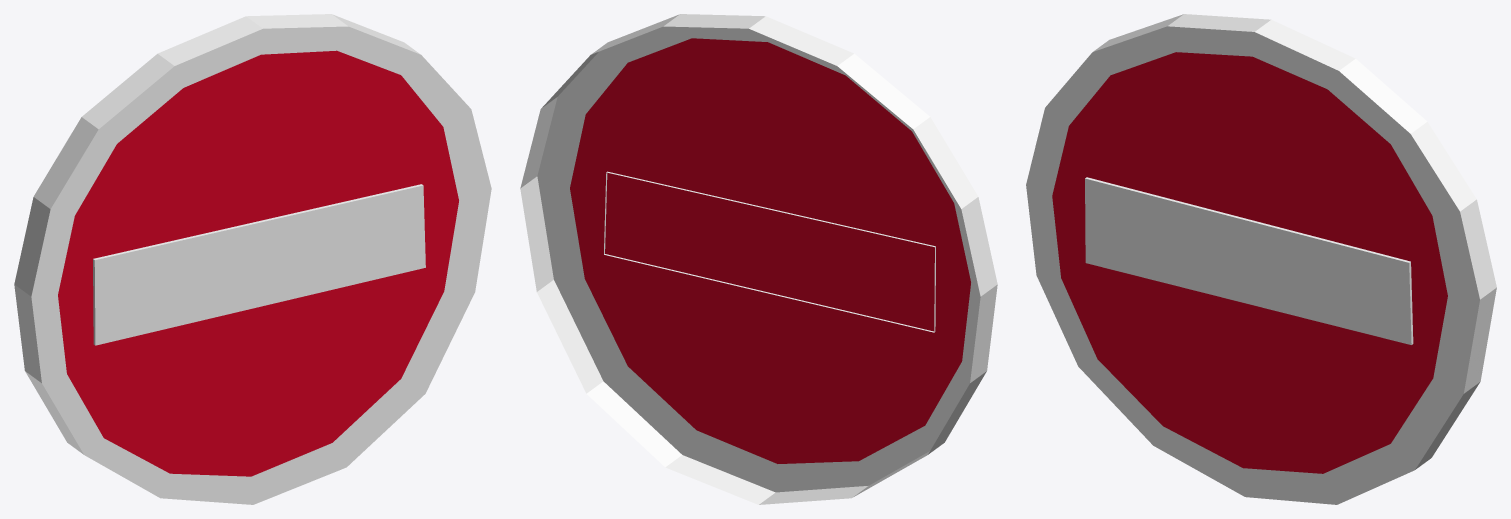
Rendered from Garage_Sign.fbx.
3 views of the same model, side by side, from view 1: azimuth 30°, elevation 25°; view 2: azimuth 150°, elevation 25°; view 3: azimuth 330°, elevation 25° (orthographic).
Visible parts, largest first — view 1: Garage_Sign; view 2: Garage_Sign; view 3: Garage_Sign.
Boxes of the visible parts, <box> form: Garage_Sign: <box>14,14,491,504</box>; Garage_Sign: <box>520,14,997,504</box>; Garage_Sign: <box>1026,14,1496,504</box>.
Size of the model in its own units: 96.08 by 6.84 by 94.51.
